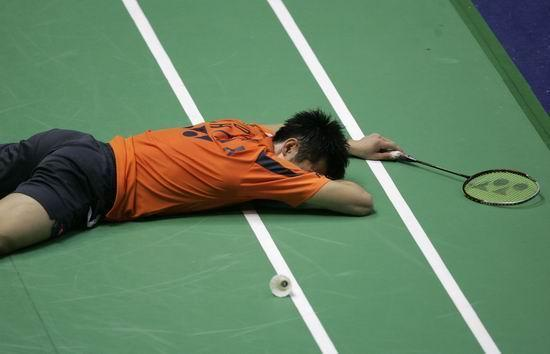Fall-Detected: (9, 79, 404, 274)
